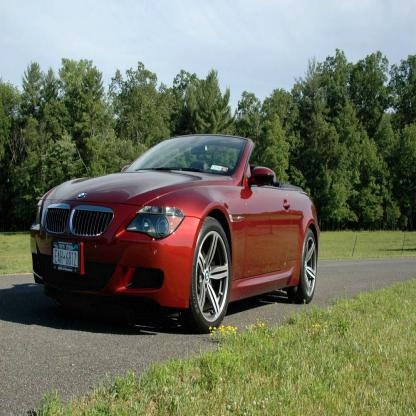Vehicle: (29, 135, 320, 334)
